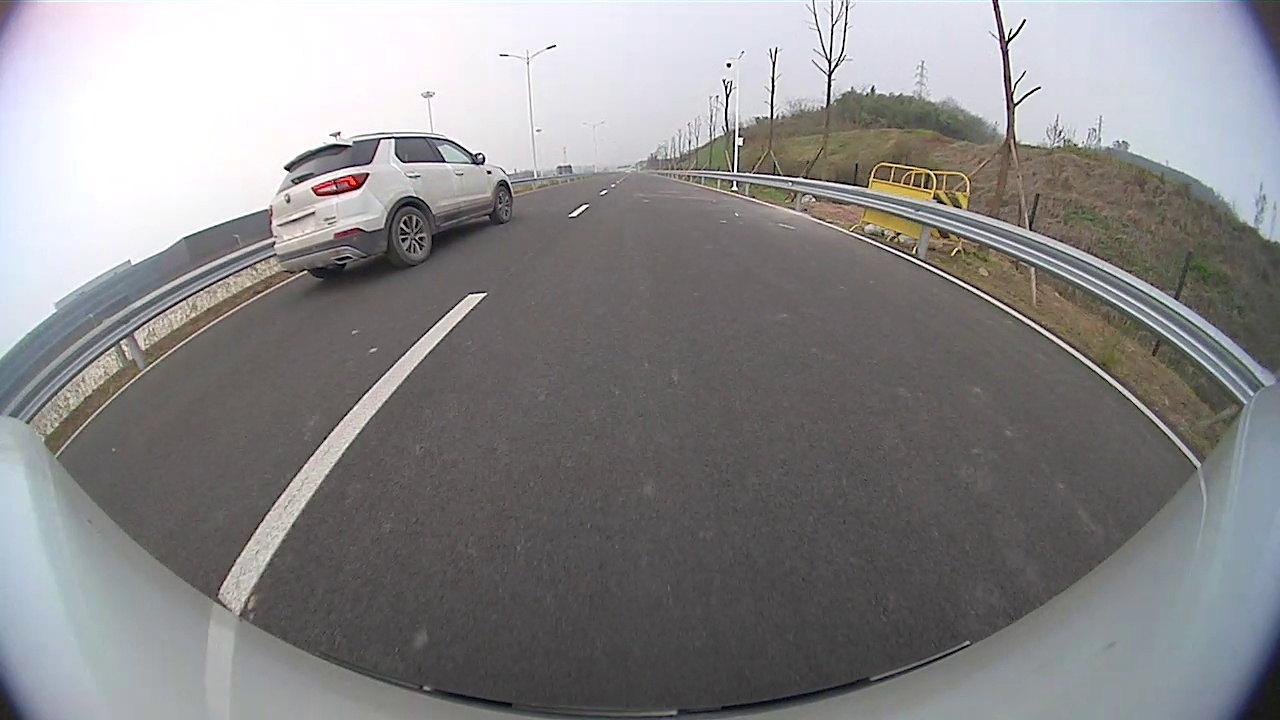car: (267, 129, 517, 283)
front: (494, 183, 513, 225)
rear: (388, 205, 433, 267)
